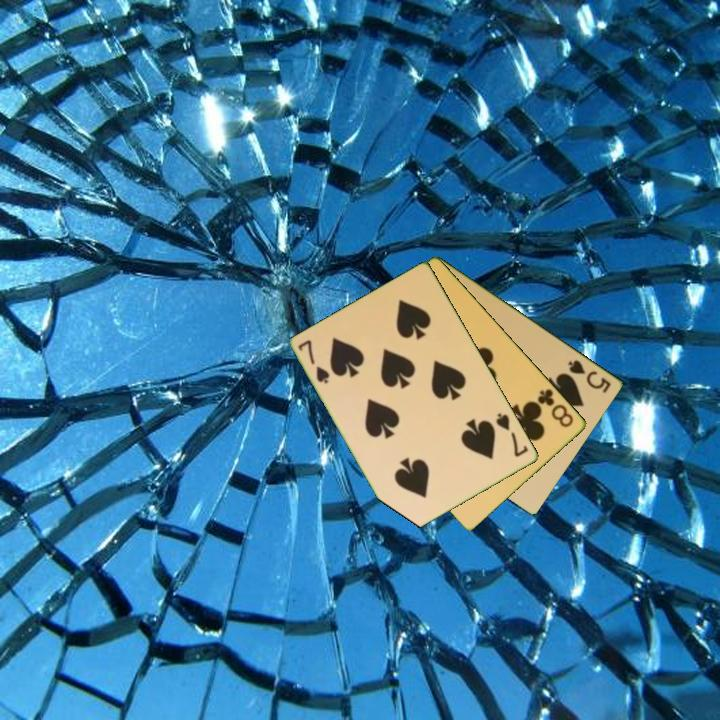5s: (565, 356, 614, 396)
7s: (294, 336, 333, 387), (493, 409, 531, 460)
8c: (534, 385, 577, 430)
